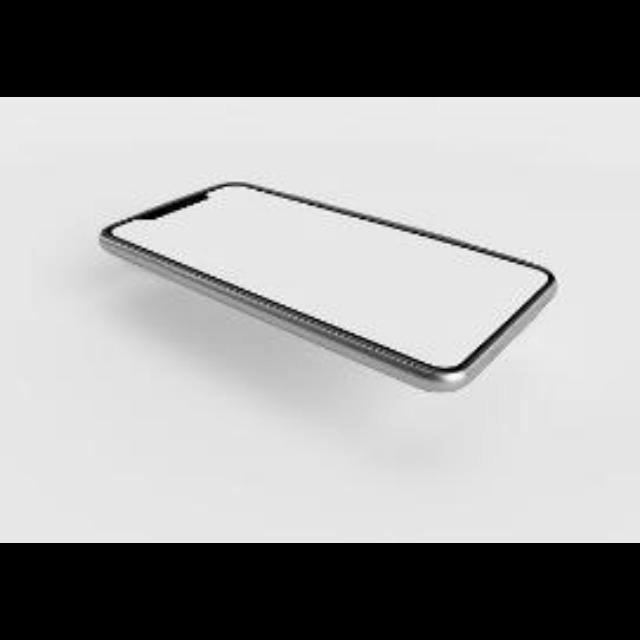fake: (102, 174, 552, 376)
